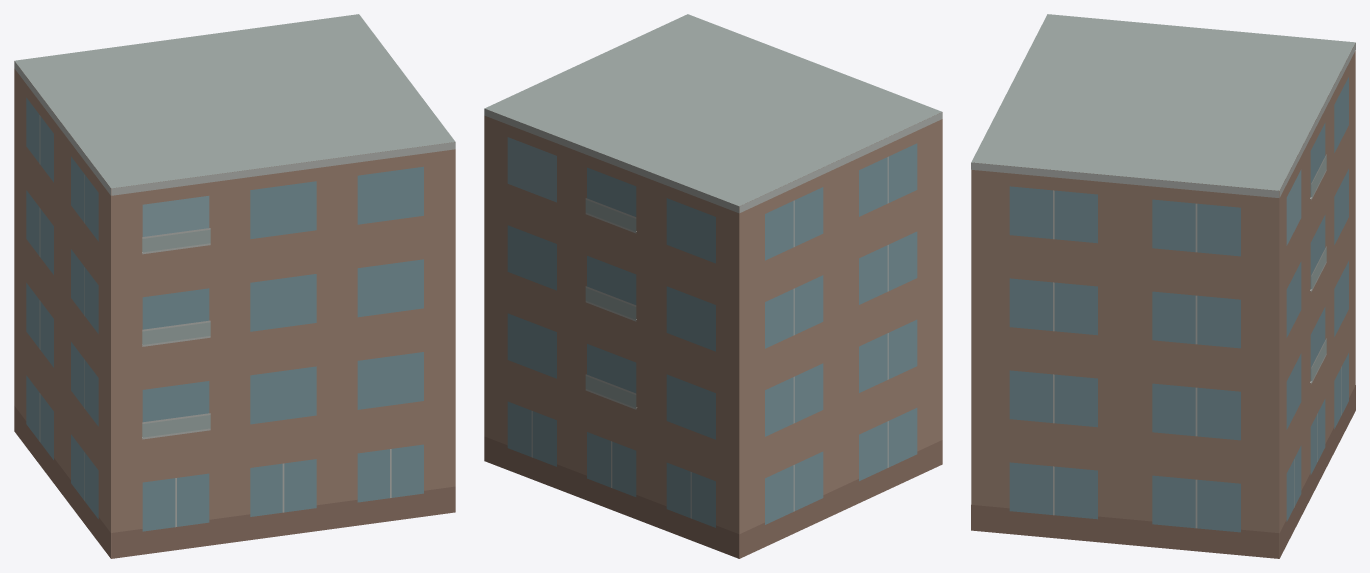
The model's file is residential-e17efd33-1cca-49b4-a1d0-32bbd672fef1.glb.
The picture shows the model from 3 angles, left to right: view 1: azimuth 30°, elevation 25°; view 2: azimuth 150°, elevation 25°; view 3: azimuth 270°, elevation 25°; orthographic projection. The views are drawn at different scales.
Visible parts, largest first — view 1: residential-e17efd33-1cca-49b4-a1d0-32bbd672fef1.tmp; view 2: residential-e17efd33-1cca-49b4-a1d0-32bbd672fef1.tmp; view 3: residential-e17efd33-1cca-49b4-a1d0-32bbd672fef1.tmp.
Boxes of the visible parts, x1,y1,x2,y2 form: residential-e17efd33-1cca-49b4-a1d0-32bbd672fef1.tmp: (14,14,455,558); residential-e17efd33-1cca-49b4-a1d0-32bbd672fef1.tmp: (484,14,942,558); residential-e17efd33-1cca-49b4-a1d0-32bbd672fef1.tmp: (971,14,1355,558).
Size of the model in its own units: 12.58 by 12.2 by 11.57.
